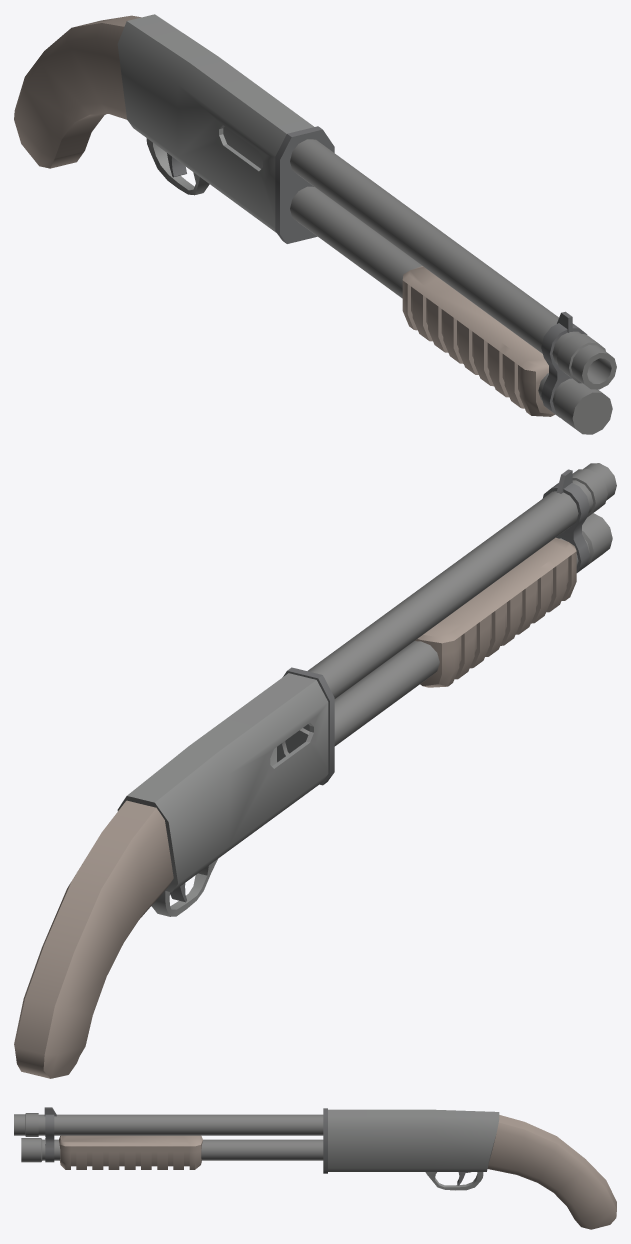
File: Shotgun.fbx
3 renders of one model, top to bottom at view 1: azimuth 30°, elevation 25°; view 2: azimuth 150°, elevation 25°; view 3: azimuth 270°, elevation 25°, orthographic. The views are drawn at different scales.
Parts seen in each view (by area): view 1: Shotgun_ShortStock; view 2: Shotgun_ShortStock; view 3: Shotgun_ShortStock.
Boxes of the visible parts, box(x1,y1,x2,y2) form: Shotgun_ShortStock: box(14, 14, 616, 434); Shotgun_ShortStock: box(14, 463, 616, 1078); Shotgun_ShortStock: box(14, 1107, 616, 1229).
Size of the model in its own units: 0.0524 by 0.2054 by 0.95.
